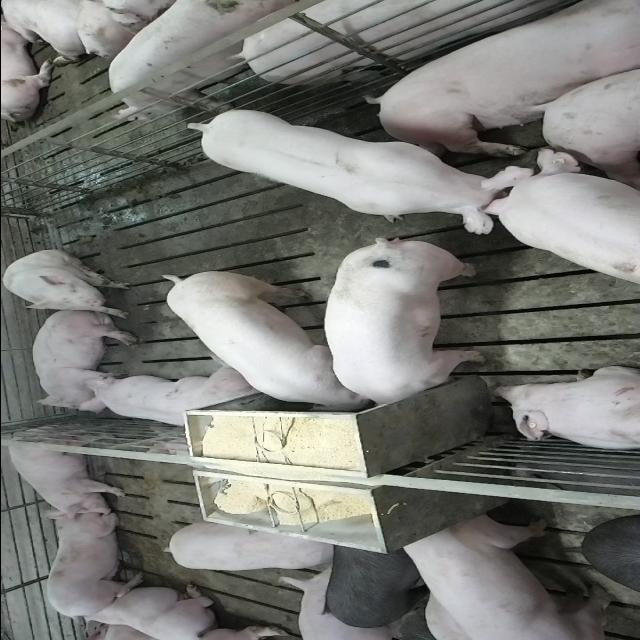Feeding: (160, 266, 368, 412), (322, 243, 486, 417)
Lateral_lying: (366, 4, 640, 158), (30, 307, 142, 413)
Sitting: (2, 250, 134, 314)
Standing: (187, 105, 528, 231), (224, 0, 634, 86), (394, 515, 628, 638), (102, 0, 306, 120), (482, 145, 640, 283), (5, 429, 132, 519), (159, 523, 331, 575), (321, 544, 424, 629)
Sternal_lying: (490, 366, 640, 453), (81, 368, 263, 432), (36, 514, 140, 620), (72, 585, 214, 639)
